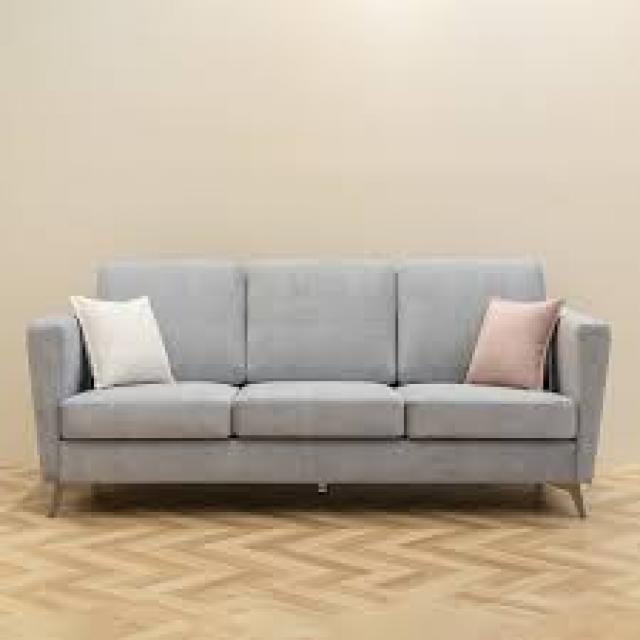Sofa: (17, 220, 633, 536)
